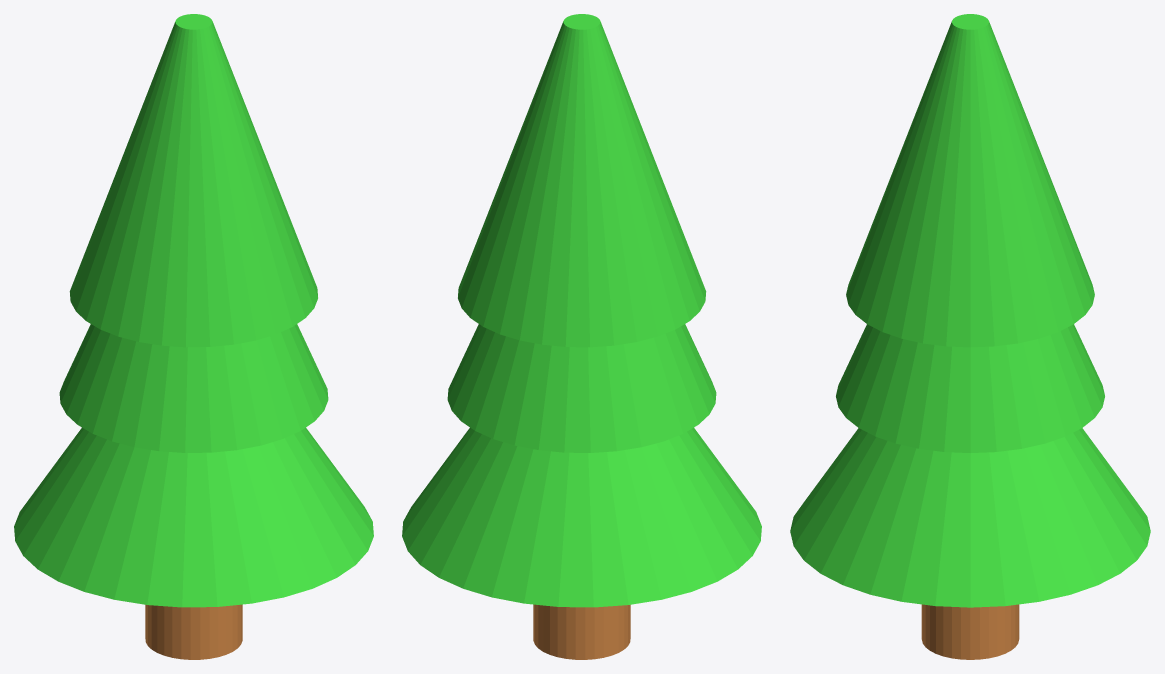
Rendered from tree.fbx.
The picture shows the model from 3 angles, left to right: view 1: azimuth 30°, elevation 25°; view 2: azimuth 150°, elevation 25°; view 3: azimuth 270°, elevation 25°; orthographic projection.
Visible parts, largest first — view 1: Цилиндр; view 2: Цилиндр; view 3: Цилиндр.
Boxes of the visible parts, x1,y1,x2,y2 form: Цилиндр: [14, 14, 373, 659]; Цилиндр: [402, 14, 761, 659]; Цилиндр: [790, 14, 1150, 659].
Bounding box in the file's own units: 411 × 776 × 411.
